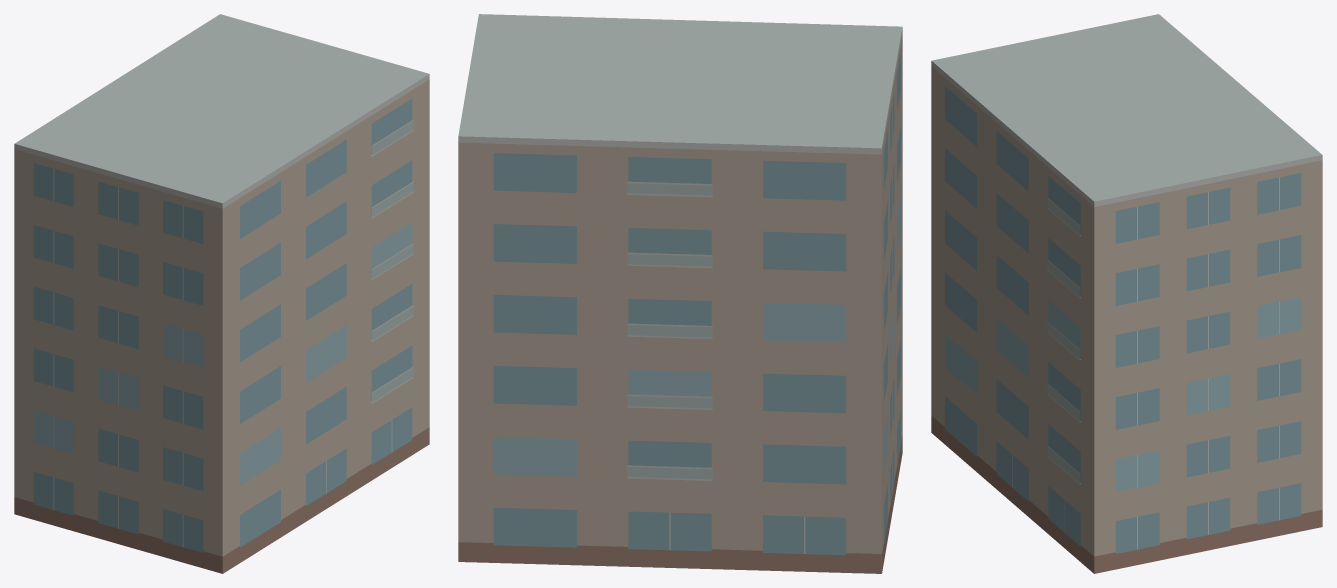
The model's file is survey-upis-32708107.glb.
The picture shows the model from 3 angles, left to right: view 1: azimuth 30°, elevation 25°; view 2: azimuth 150°, elevation 25°; view 3: azimuth 270°, elevation 25°; orthographic projection. The views are drawn at different scales.
Visible parts, largest first — view 1: survey-upis-32708107.tmp; view 2: survey-upis-32708107.tmp; view 3: survey-upis-32708107.tmp.
Part boxes in pixels (left/top/right/bottom): survey-upis-32708107.tmp: left=14, top=14, right=429, bottom=573; survey-upis-32708107.tmp: left=458, top=14, right=902, bottom=573; survey-upis-32708107.tmp: left=931, top=14, right=1322, bottom=573.
Size of the model in its own units: 18.19 by 16.8 by 16.01.
